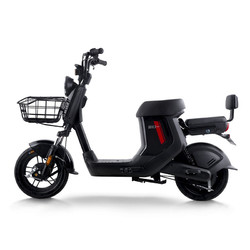MNV: (13, 47, 238, 200)
